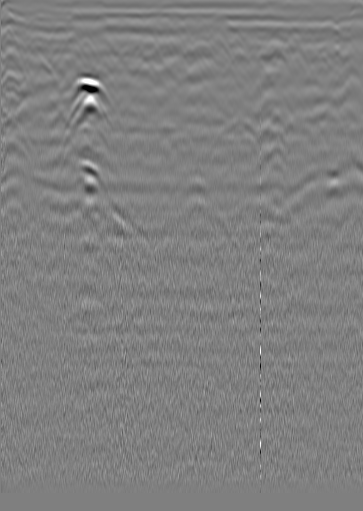가스: (63, 156, 112, 193)
상수: (315, 27, 335, 47)
오수: (34, 27, 54, 47)
우수: (178, 31, 198, 51)
